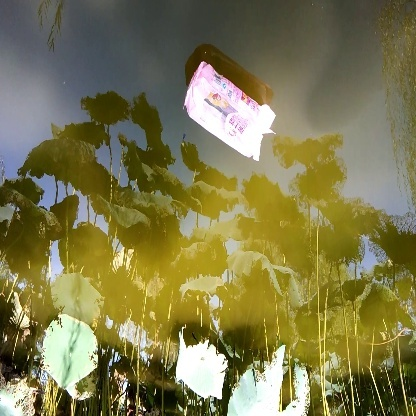plastic-bag: (181, 56, 277, 168)
